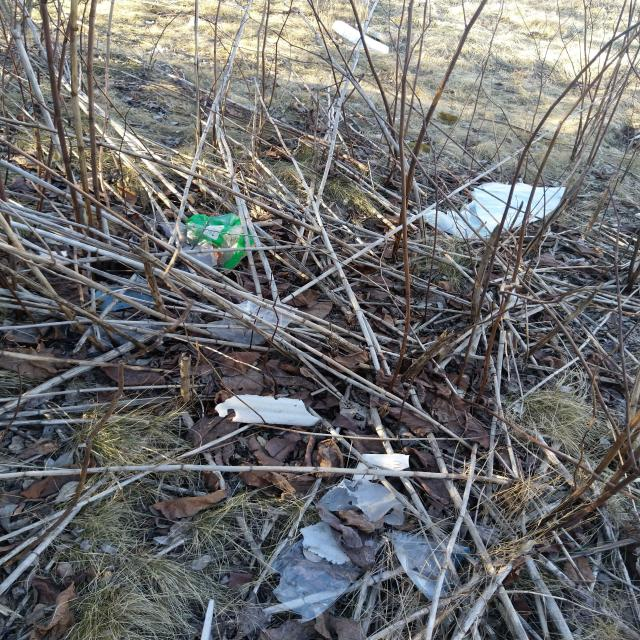litter: (266, 540, 363, 622), (207, 299, 296, 347), (186, 213, 255, 270)
